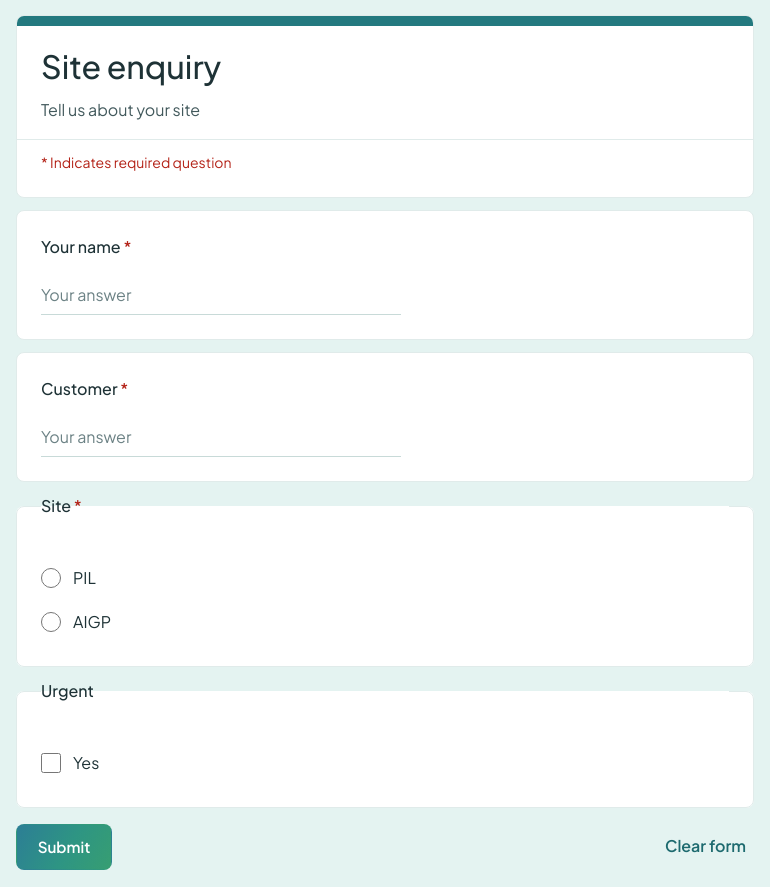
Test: public FMS form page (Google Form style) › shows a header card and one card per question, and records the response
Expected: the heading "Site enquiry" is shown, [41,46,221,86]
Expected: the text "Tell us about your site" is shown, [41,99,200,120]
Type "Mr. Shah" into the field labelled "Your name *".
click(221, 295); type("Mr. Shah")  # box [41,276,401,315]
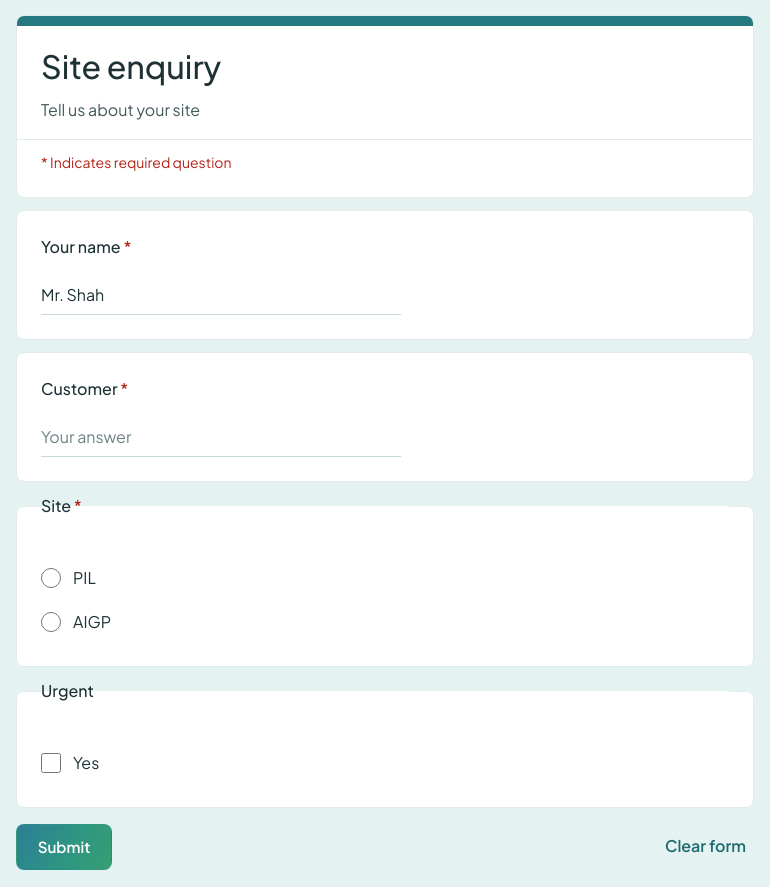
Type "Mr. Shah" into the field labelled "Customer *".
click(221, 437); type("Mr. Shah")  # box [41,417,401,457]
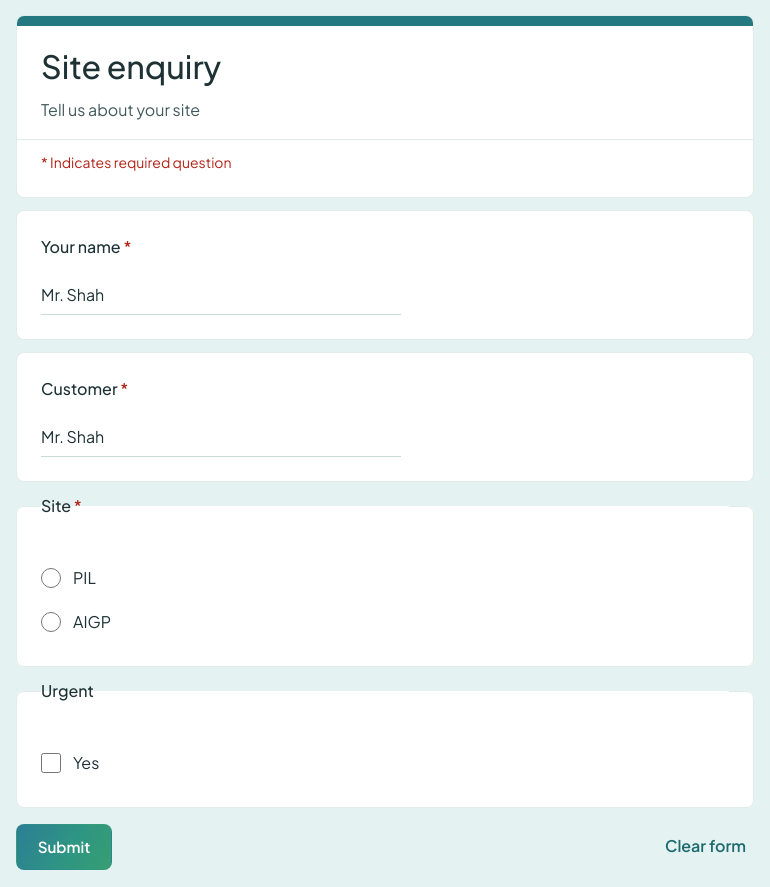
Click the radio button labelled "AIGP".
click(51, 622)  # box [41,612,61,632]
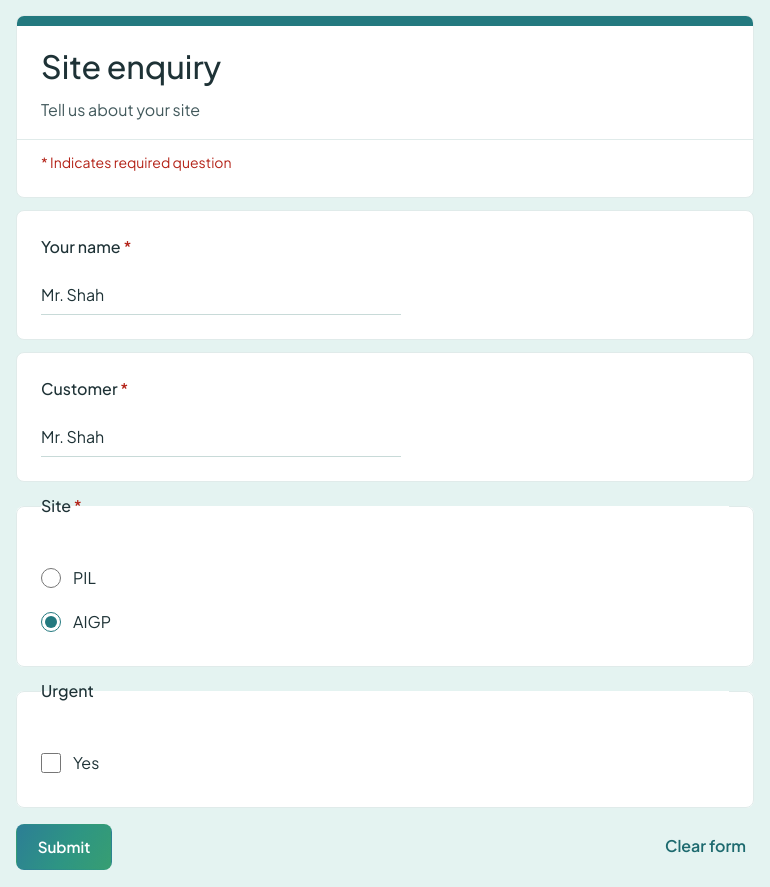
Click the button "Submit".
click(64, 847)  # box [16,824,112,870]
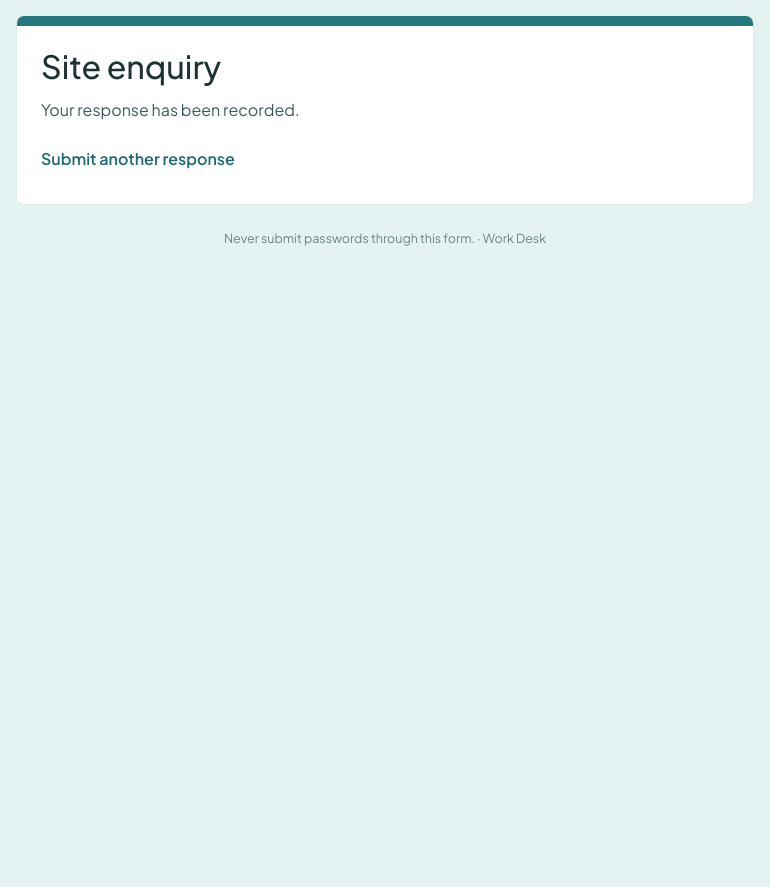
Expected: the text "Your response has been recorded." is shown, [41,99,300,120]
